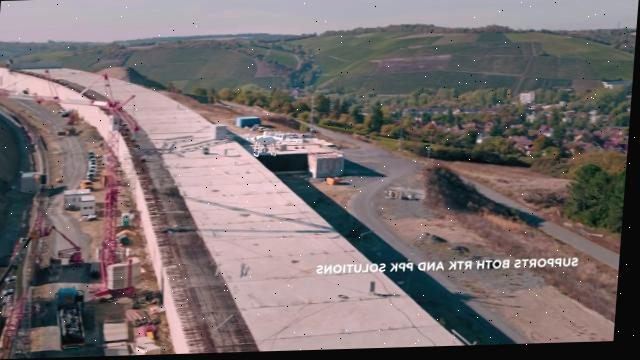drone: (241, 129, 293, 158)
